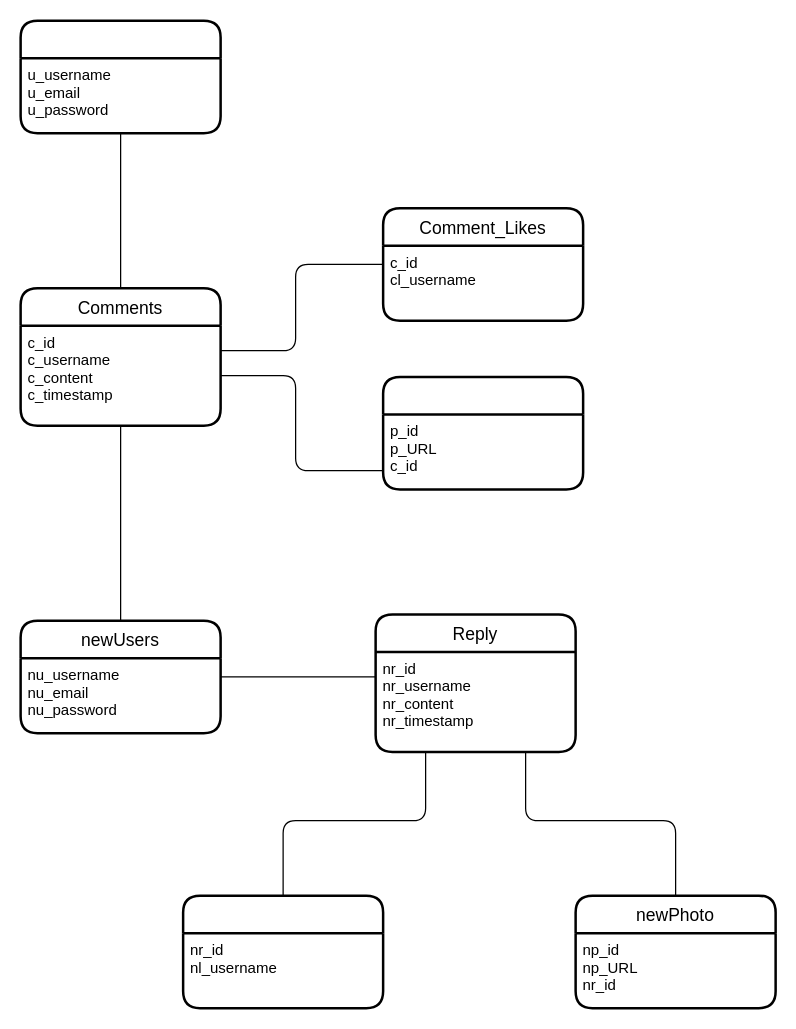
Some shapes in this 796 by 1029 pixel diagram are drawn without their labels. Each missing label, with the box of its shape:
newLikes: (181, 894, 384, 1009)
Profile_Photo: (381, 375, 584, 490)
Users: (19, 19, 221, 134)
